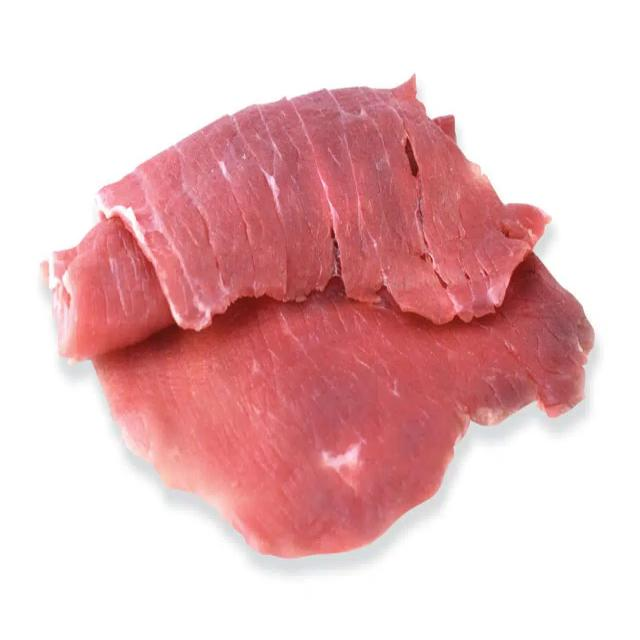carne de res: (33, 65, 601, 572)
